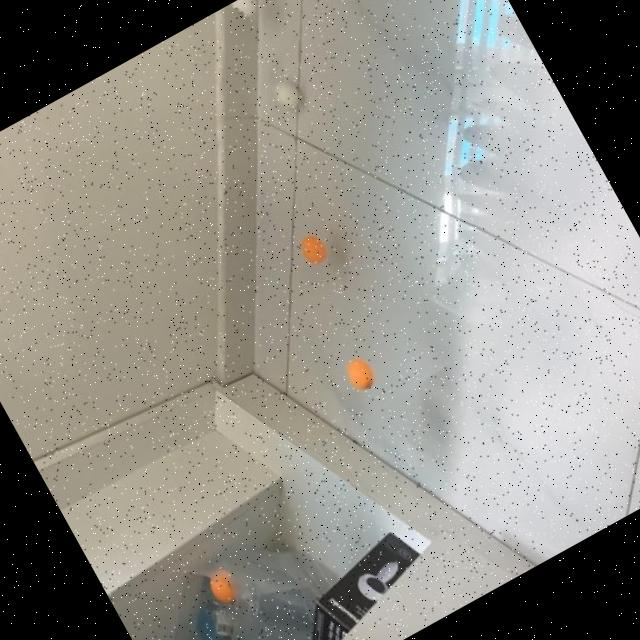ping-pong-ball: (204, 565, 243, 607), (294, 230, 331, 270), (342, 356, 378, 394), (270, 78, 304, 112), (230, 0, 261, 21)
